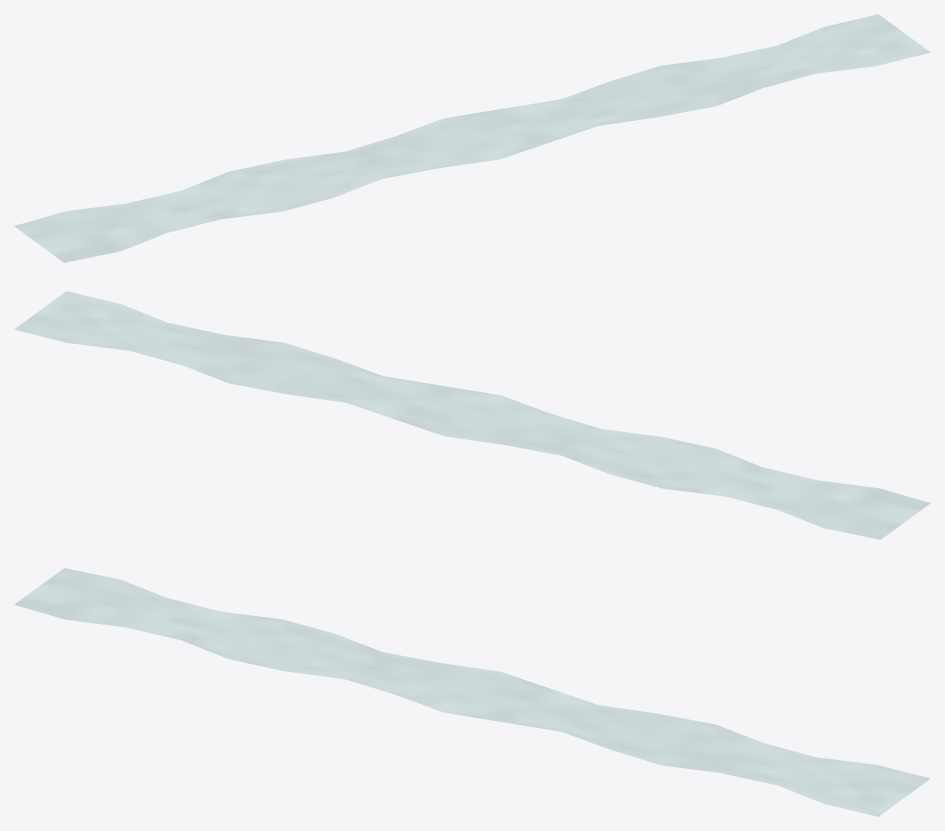
Rendered from CC_B08_WaterSurface.fbx.
The picture shows the model from 3 angles, top to bottom: view 1: azimuth 30°, elevation 25°; view 2: azimuth 150°, elevation 25°; view 3: azimuth 330°, elevation 25°; orthographic projection.
Visible parts, largest first — view 1: FoamStrip; view 2: FoamStrip; view 3: FoamStrip.
Part boxes in pixels (box(x1,y1,x2,y2)): FoamStrip: box(14, 14, 930, 262); FoamStrip: box(14, 291, 930, 539); FoamStrip: box(14, 568, 930, 816).
Size of what is drawn, in the model's own units: 8 by 0 by 0.8985.
